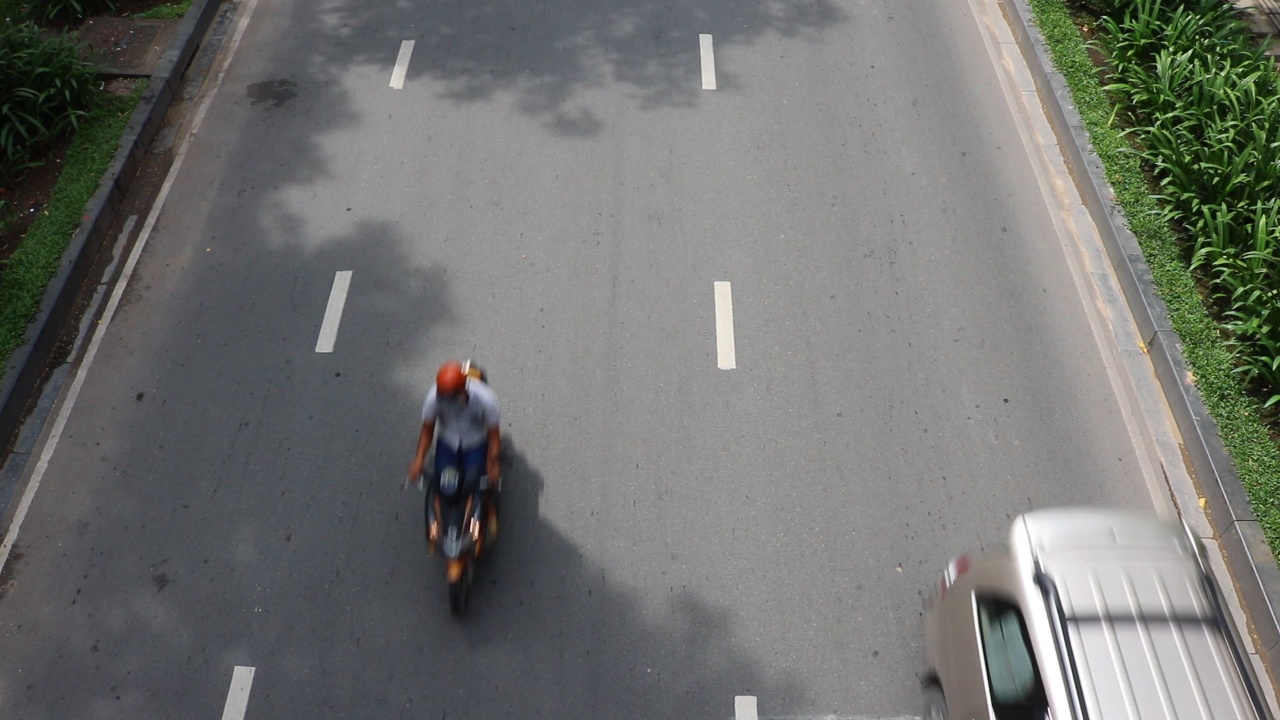car: (920, 505, 1276, 717)
motorcycle: (412, 460, 497, 609)
